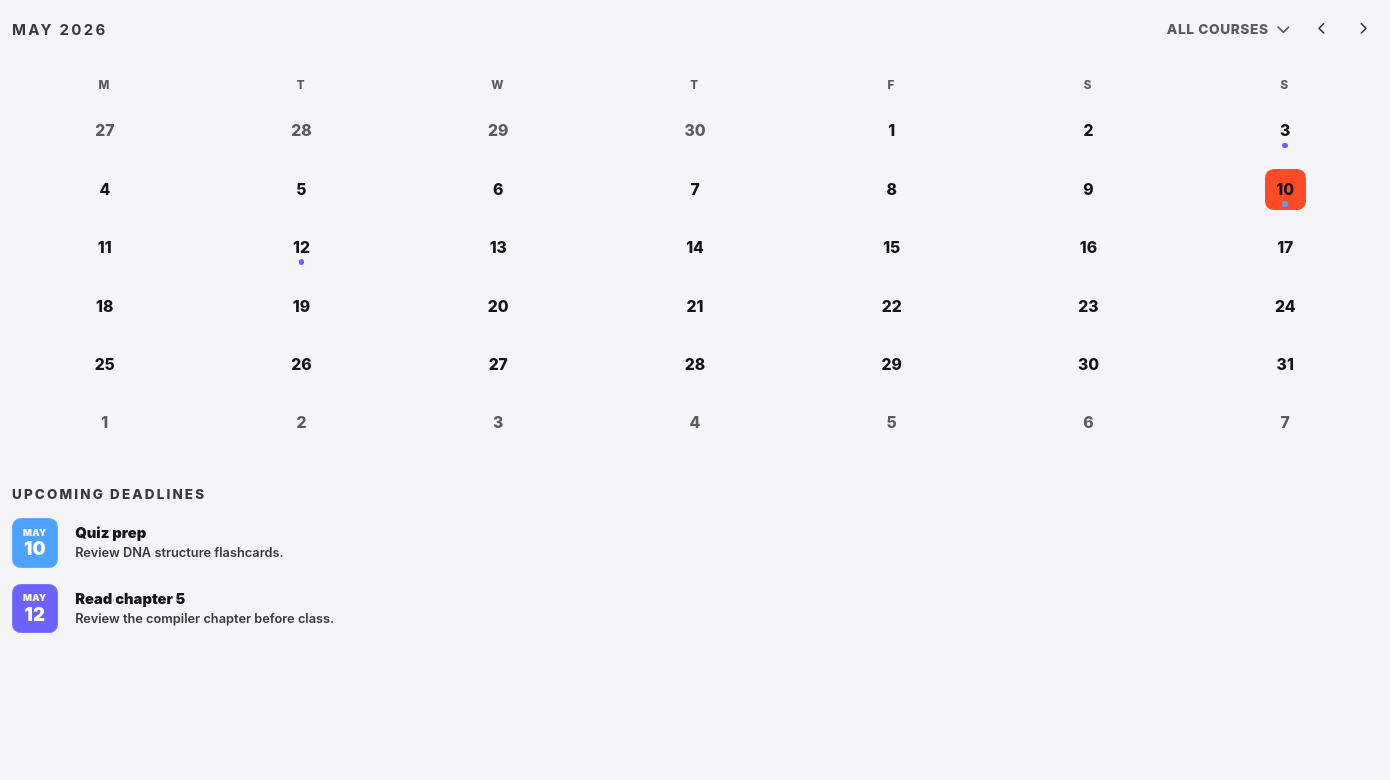
Test case: DeadlineCalendar › navigates between months and returns to the upcoming view
Expected: the heading "Upcoming Deadlines" is shown, left=12, top=486, right=206, bottom=502
Click the button named "03.05.2026, 1 deadline".
click(1285, 131)  # box left=1265, top=111, right=1306, bottom=152
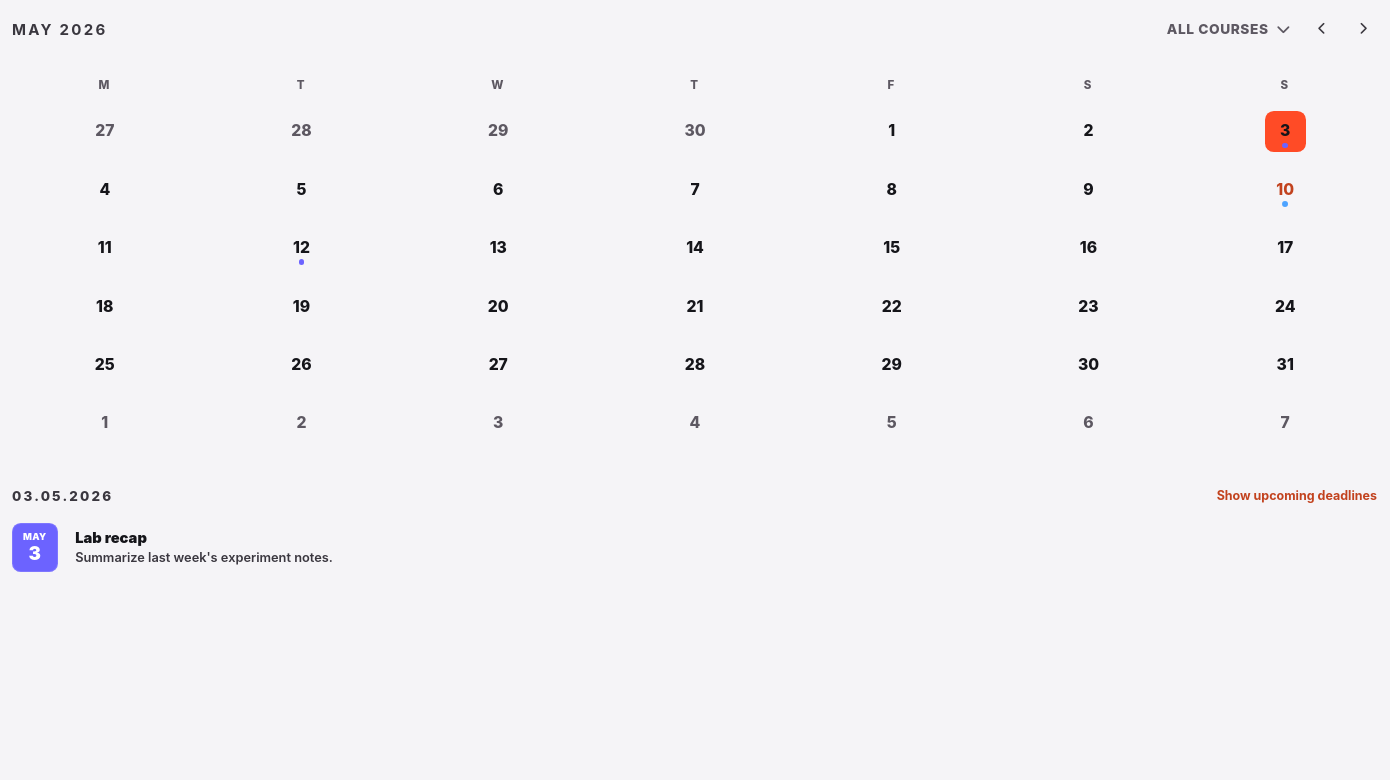
Now the heading "03.05.2026" is shown, box left=12, top=488, right=113, bottom=504
Click the button named "go to next month".
click(1363, 30)  # box left=1348, top=14, right=1378, bottom=45
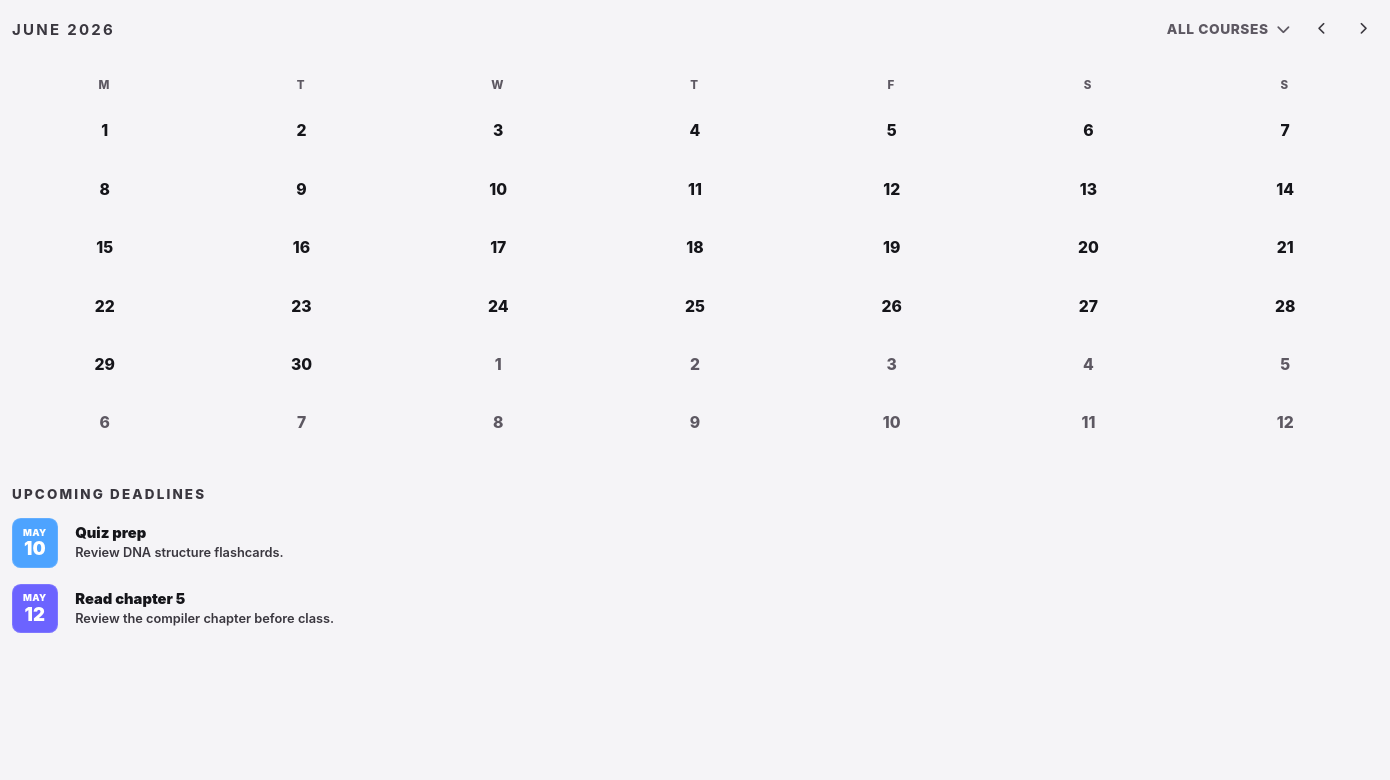
Now the heading "June 2026" is shown, box left=12, top=21, right=115, bottom=39
Now the heading "Upcoming Deadlines" is shown, box left=12, top=486, right=206, bottom=502
Click the button named "go to previous month".
click(1322, 30)  # box left=1307, top=14, right=1337, bottom=45
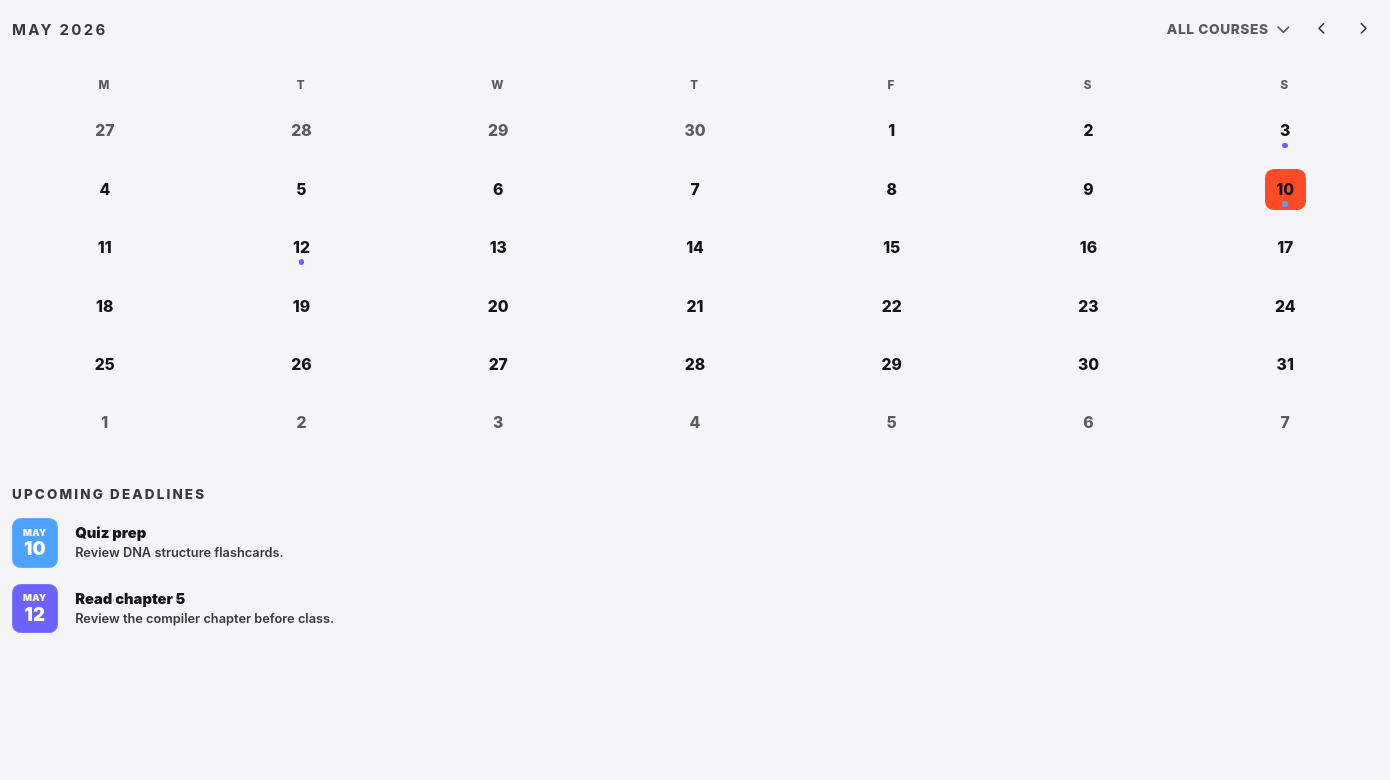
Now the heading "May 2026" is shown, box left=12, top=21, right=108, bottom=39
